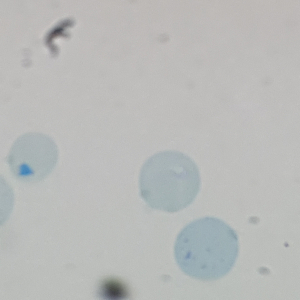erythrocyte: (137, 149, 203, 215), (4, 129, 61, 183)
punctate reticulocyte: (172, 216, 242, 282)
